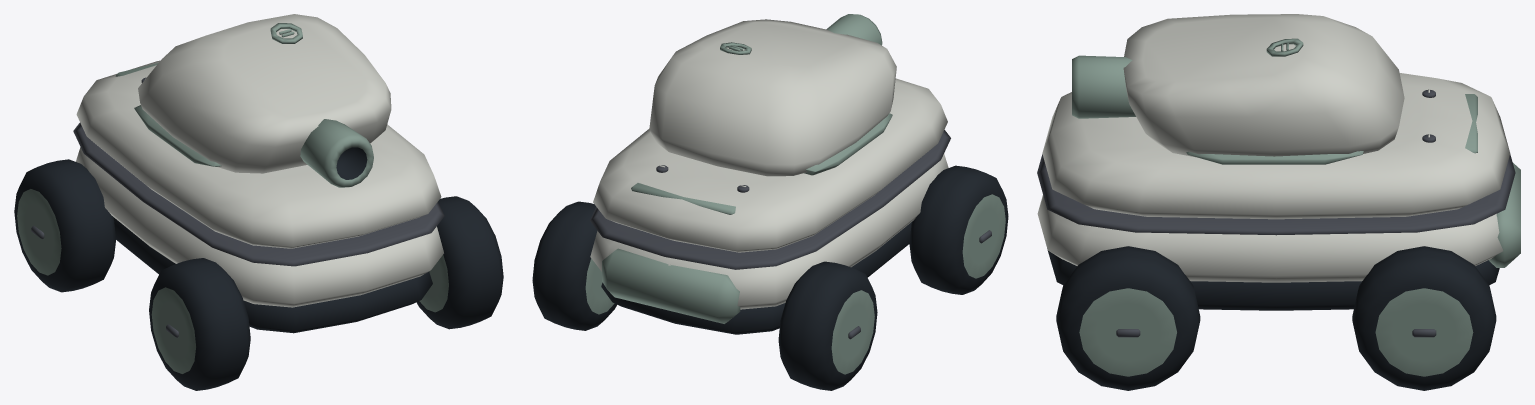
The model's file is TOY_GHOST.lo.glb.
3 renders of one model, left to right at view 1: azimuth 30°, elevation 25°; view 2: azimuth 150°, elevation 25°; view 3: azimuth 270°, elevation 25°, orthographic. The views are drawn at different scales.
Visible parts, largest first — view 1: Body, TurretYaw, WheelsFront, WheelsRear, BarrelRecoil; view 2: Body, TurretYaw, WheelsRear, WheelsFront, BarrelRecoil; view 3: Body, TurretYaw, WheelsRear, WheelsFront, BarrelRecoil.
Part boxes in pixels (box(x1,y1,x2,y2)): Body: box(73, 60, 444, 333); TurretYaw: box(134, 14, 391, 173); WheelsFront: box(149, 196, 503, 390); WheelsRear: box(14, 159, 115, 292); BarrelRecoil: box(300, 119, 373, 187); Body: box(590, 78, 950, 334); TurretYaw: box(649, 19, 896, 176); WheelsRear: box(532, 201, 877, 390); WheelsFront: box(909, 165, 1008, 294); BarrelRecoil: box(826, 14, 882, 45); Body: box(1037, 73, 1520, 310); TurretYaw: box(1123, 14, 1404, 164); WheelsRear: box(1352, 246, 1496, 390); WheelsFront: box(1056, 246, 1200, 390); BarrelRecoil: box(1072, 55, 1135, 118).
Size of the model in its own units: 0.688 by 0.5566 by 0.8409.
